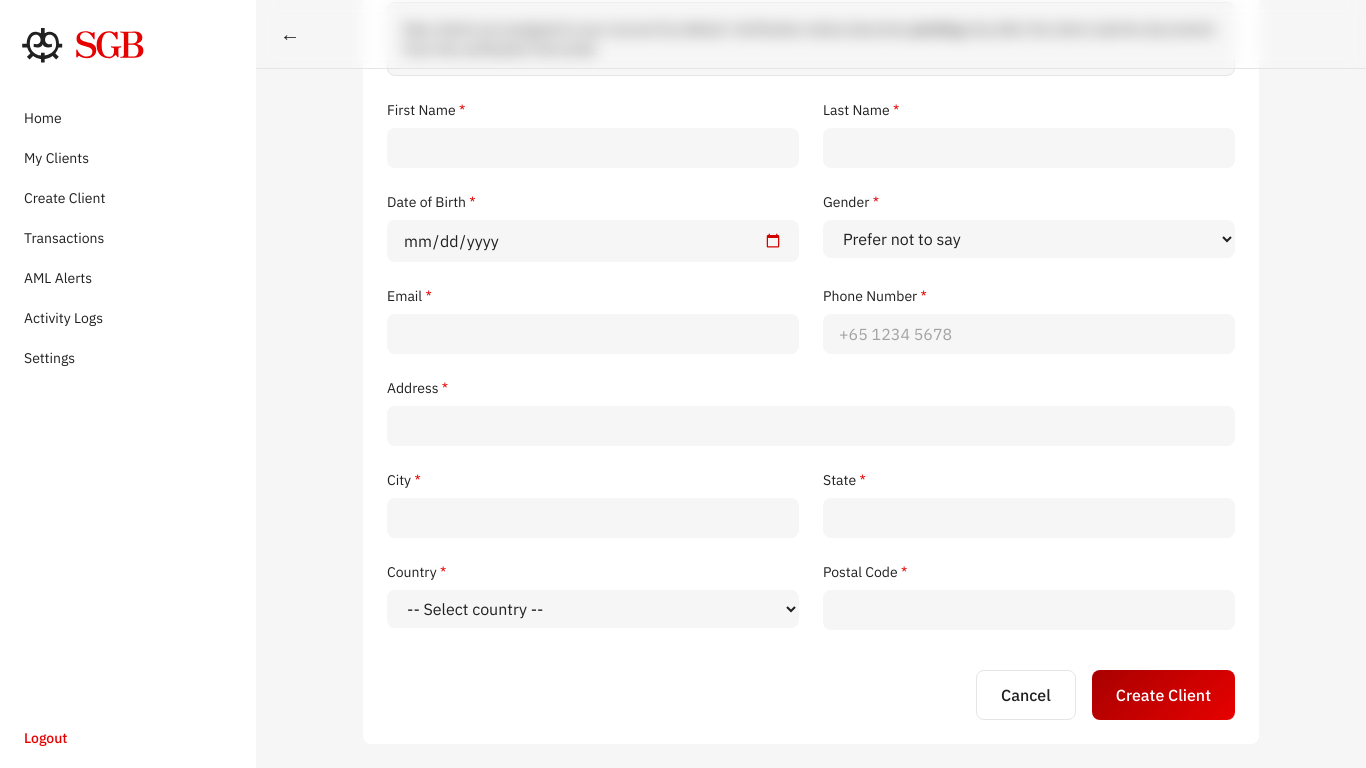
Test: CreateClientPage › should show validation errors for empty required fields
The width and height of the screenshot is (1366, 768).
(page scrolled)
What coordinates should you click on to do the following:
click the button "Create Client"
I would click on:
 (1163, 695)
Its box is [1092,670,1235,720].
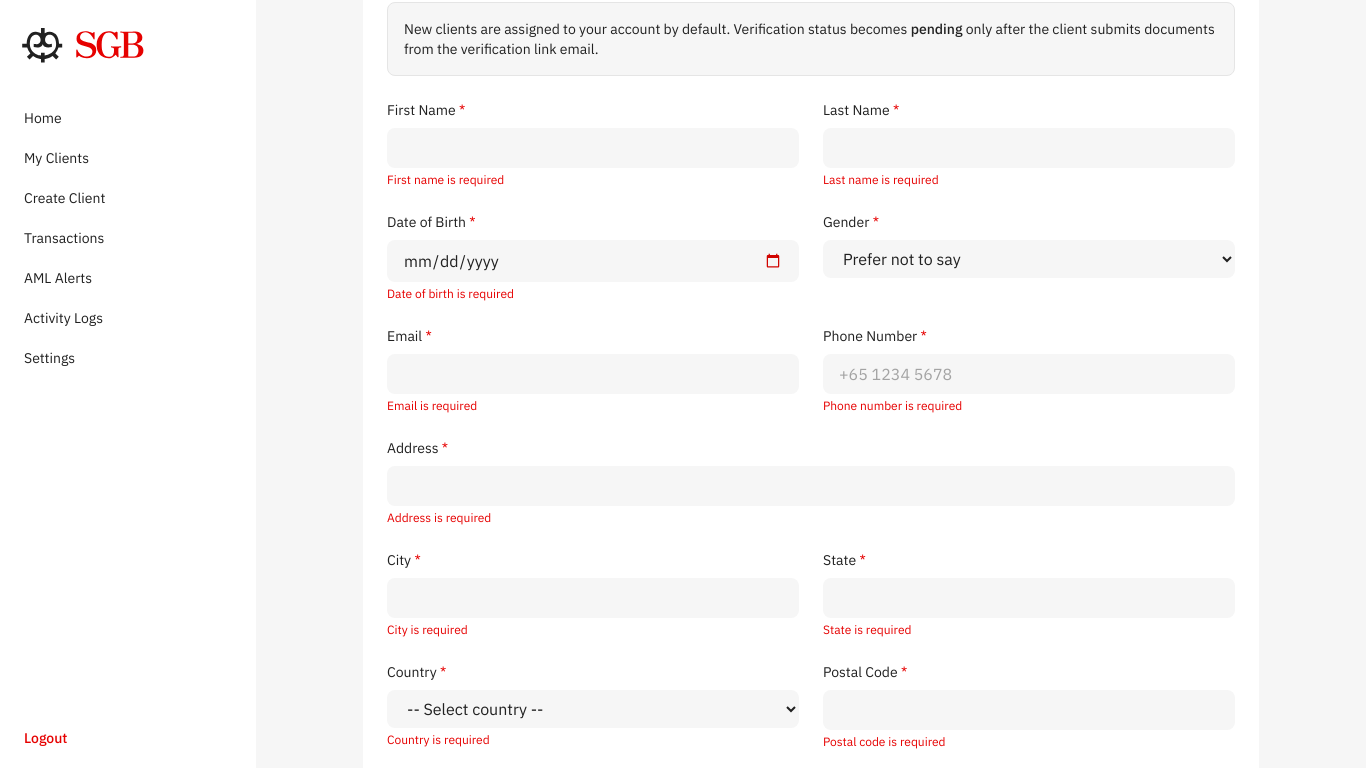
Check: the text "First name is required" is shown, box [387,172,504,187]
Check: the text "Last name is required" is shown, box [823,172,939,187]
Check: the text "Date of birth is required" is shown, box [387,286,514,301]
